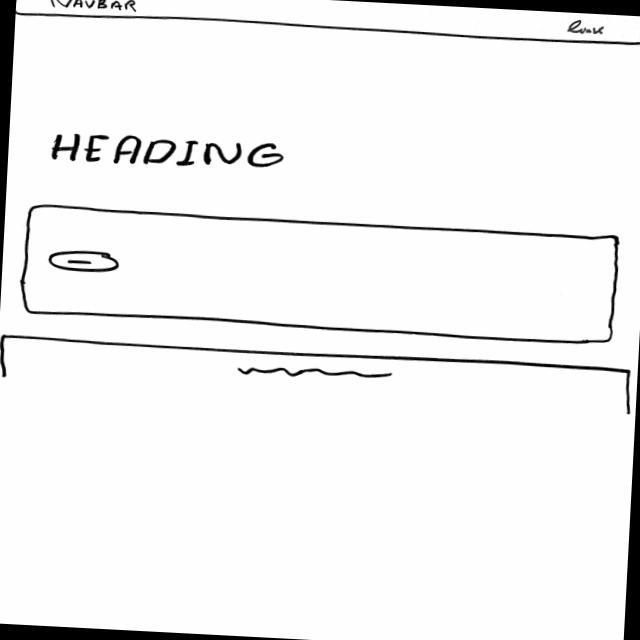container: (21, 202, 622, 348), (16, 1, 640, 52)
icon-button: (49, 251, 123, 277)
label: (48, 129, 292, 176), (44, 1, 141, 13), (567, 19, 610, 39)
text: (234, 363, 398, 385)
